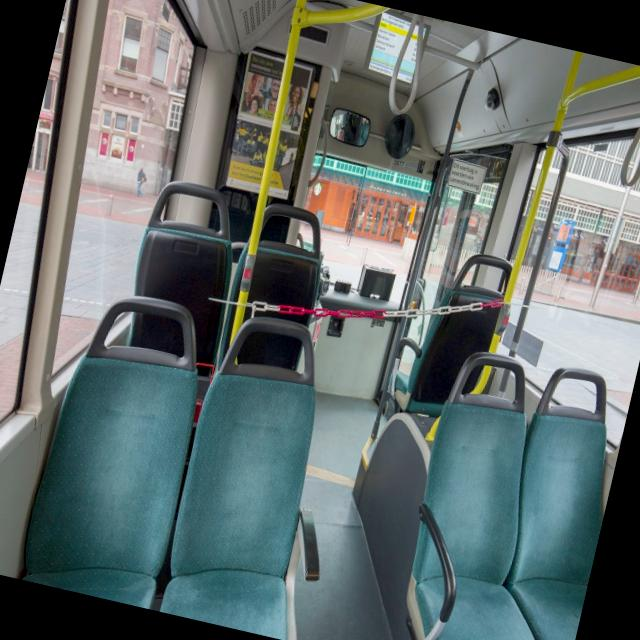empty-seat-frontal: (0, 271, 218, 609), (383, 343, 627, 640), (152, 306, 346, 638), (466, 358, 634, 640)
